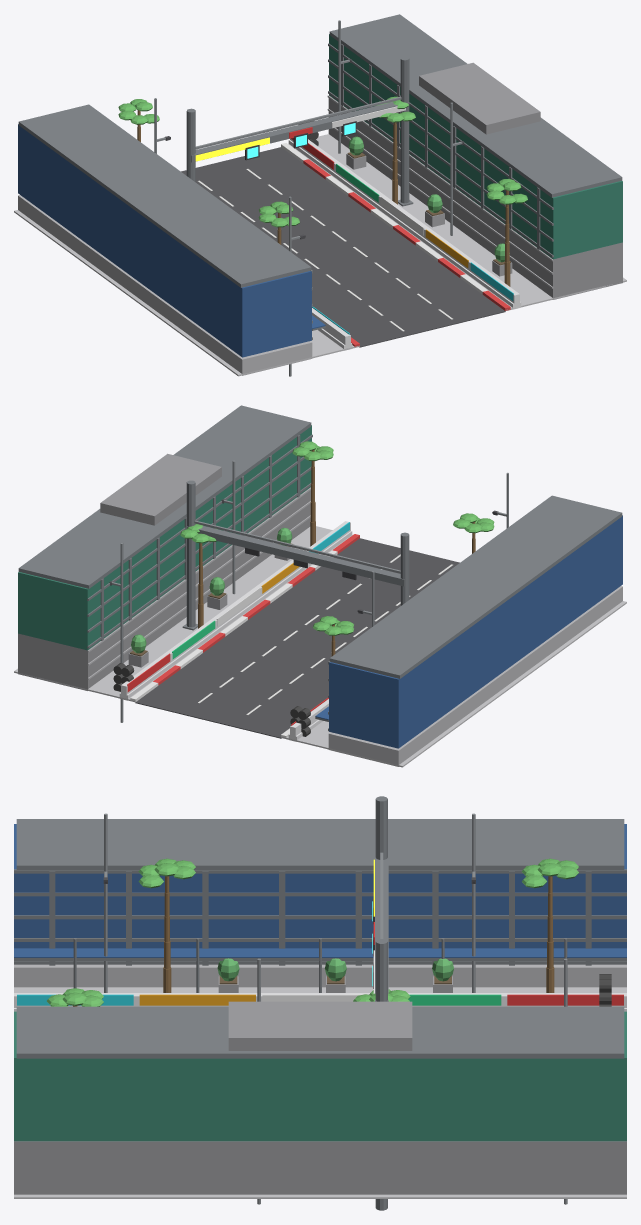
File: env2-2.glb
The picture shows the model from 3 angles, top to bottom: view 1: azimuth 30°, elevation 25°; view 2: azimuth 150°, elevation 25°; view 3: azimuth 270°, elevation 25°; orthographic projection. The views are drawn at different scales.
Visible parts, largest first — view 1: env2-2.001; view 2: env2-2.001; view 3: env2-2.001.
Boxes of the visible parts, bbox=[...] form: env2-2.001: bbox=[14, 14, 626, 376]; env2-2.001: bbox=[14, 405, 626, 767]; env2-2.001: bbox=[14, 796, 626, 1210].
Bounding box in the file's own units: 20 × 9.6 × 20.
